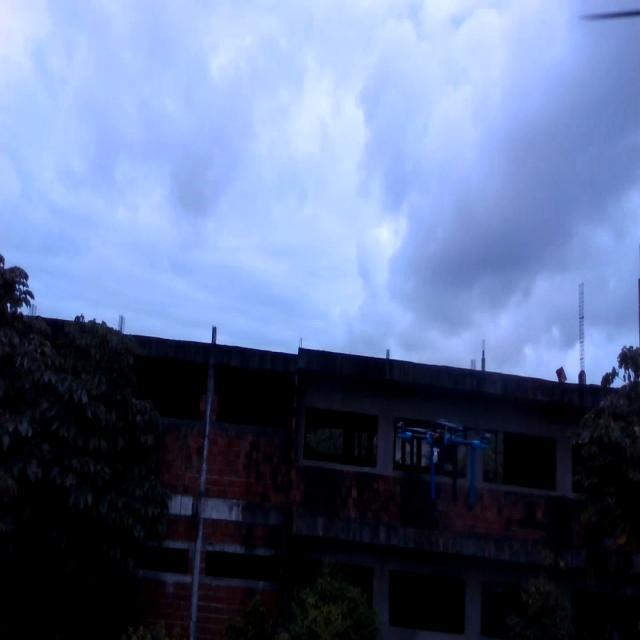-uav-: (406, 404, 491, 518)
